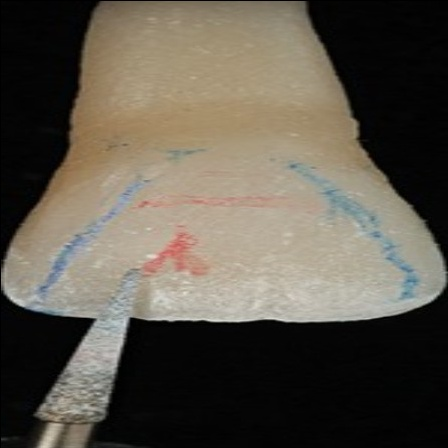coin_1: (356, 137, 376, 157)
coin_2: (404, 200, 424, 220)
coin_3: (69, 146, 89, 166)
coin_4: (18, 223, 38, 243)
